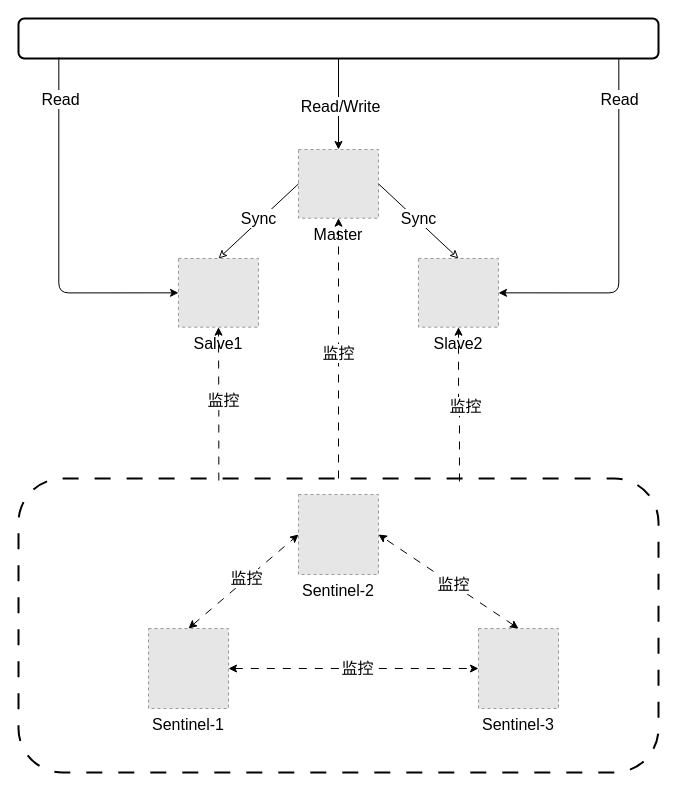
The diagram is 676 pixels wide and 790 high, and some of its shapes have lost their labels. Grey dashed boxes stand in for pictures. Here are the shapes that lost their labels. From the top down, the box of each, then its label:
(17, 17, 659, 59): Client
(17, 477, 659, 773): 哨兵集群
